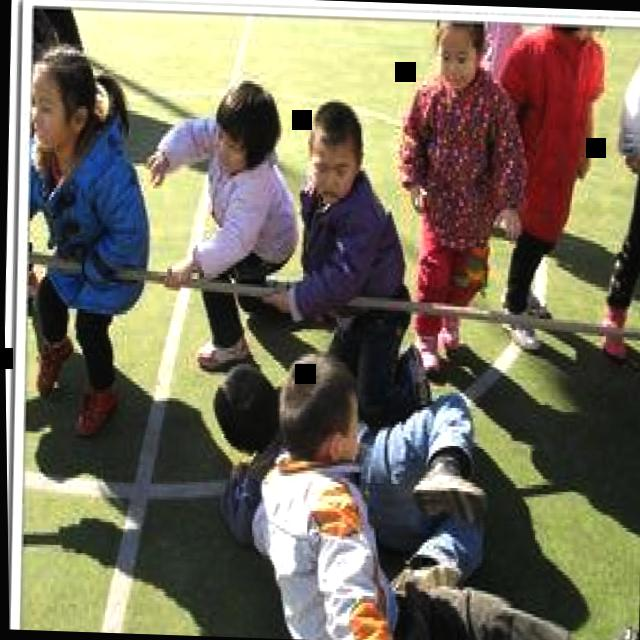Fall-Detected: (232, 348, 640, 640)
